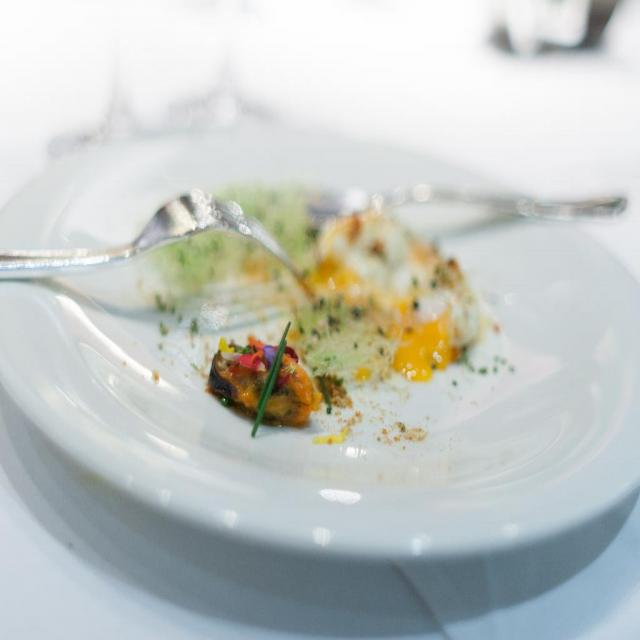non-organic waste: (0, 101, 640, 598)
